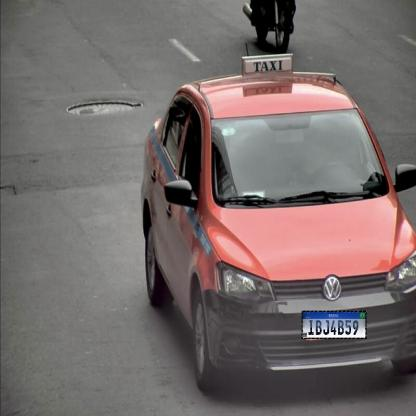PlacaM: (302, 311, 366, 339)
